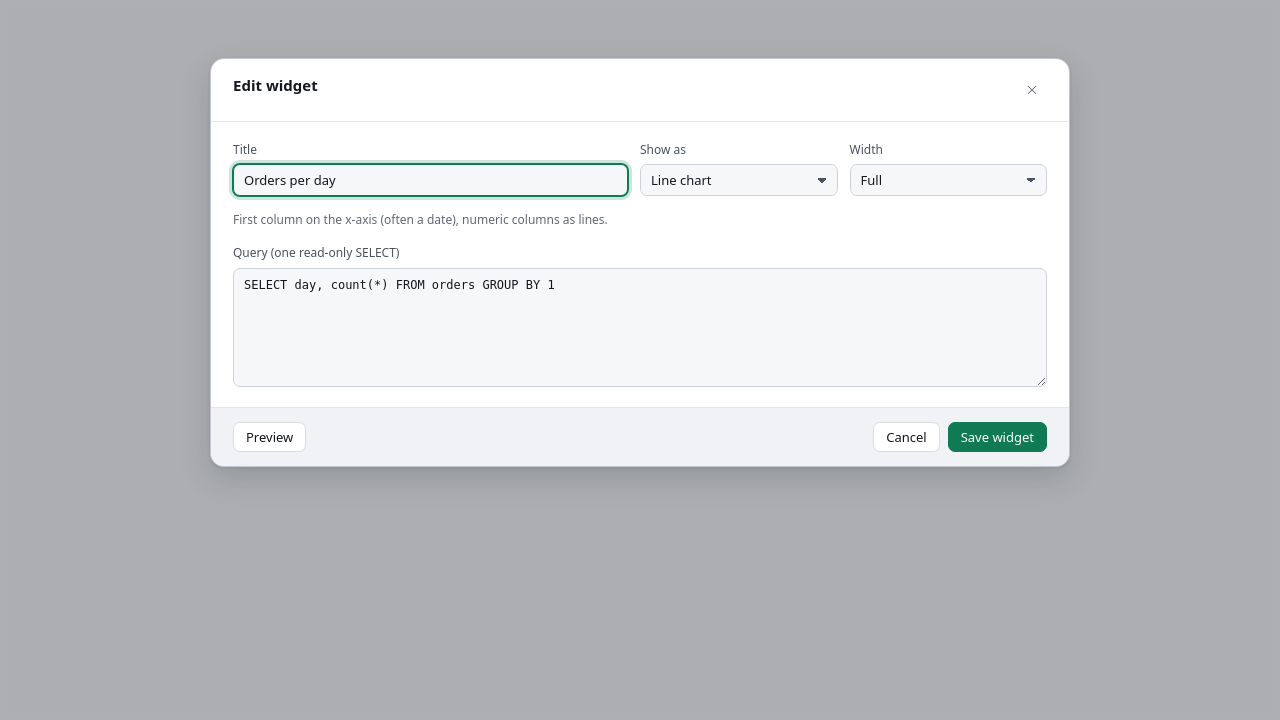
WidgetEditor › shows Running… while the preview runs and blocks a second run
Click the button "Preview" at (270, 437), box [233,422,306,452]
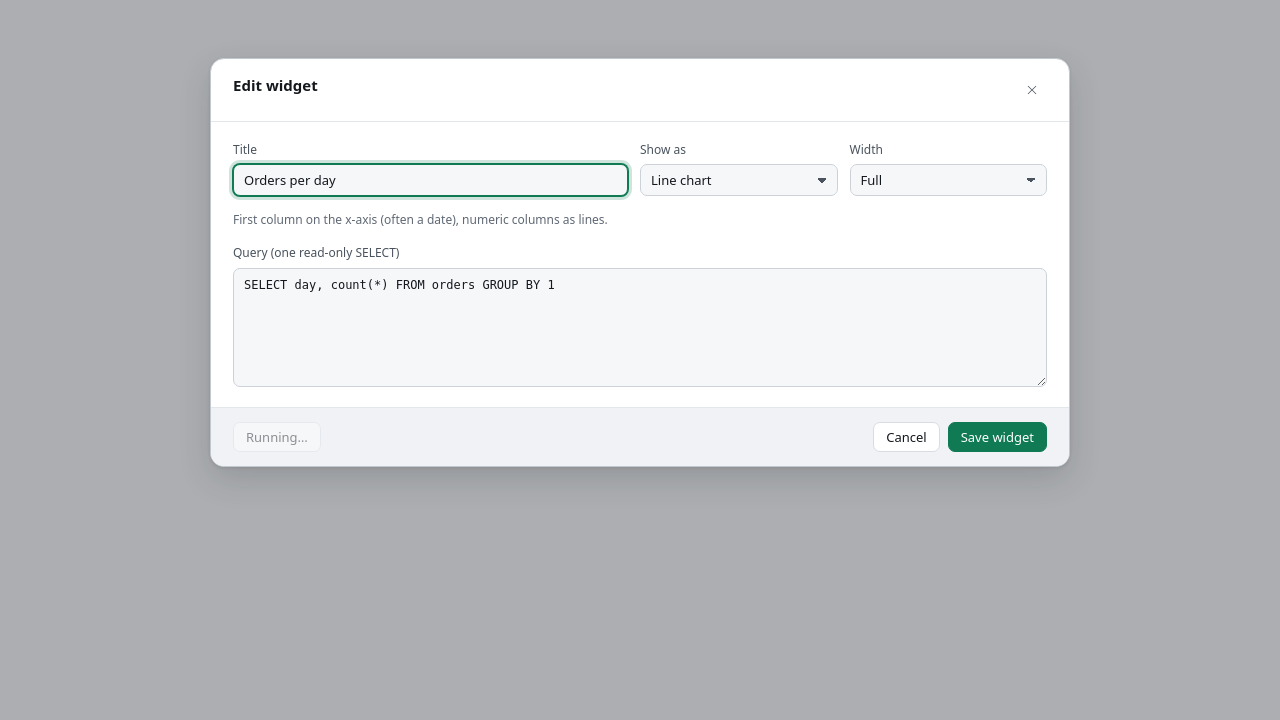
Now the button "Running…" is disabled
Click the button "Running…" at (277, 437), box [233,422,321,452]
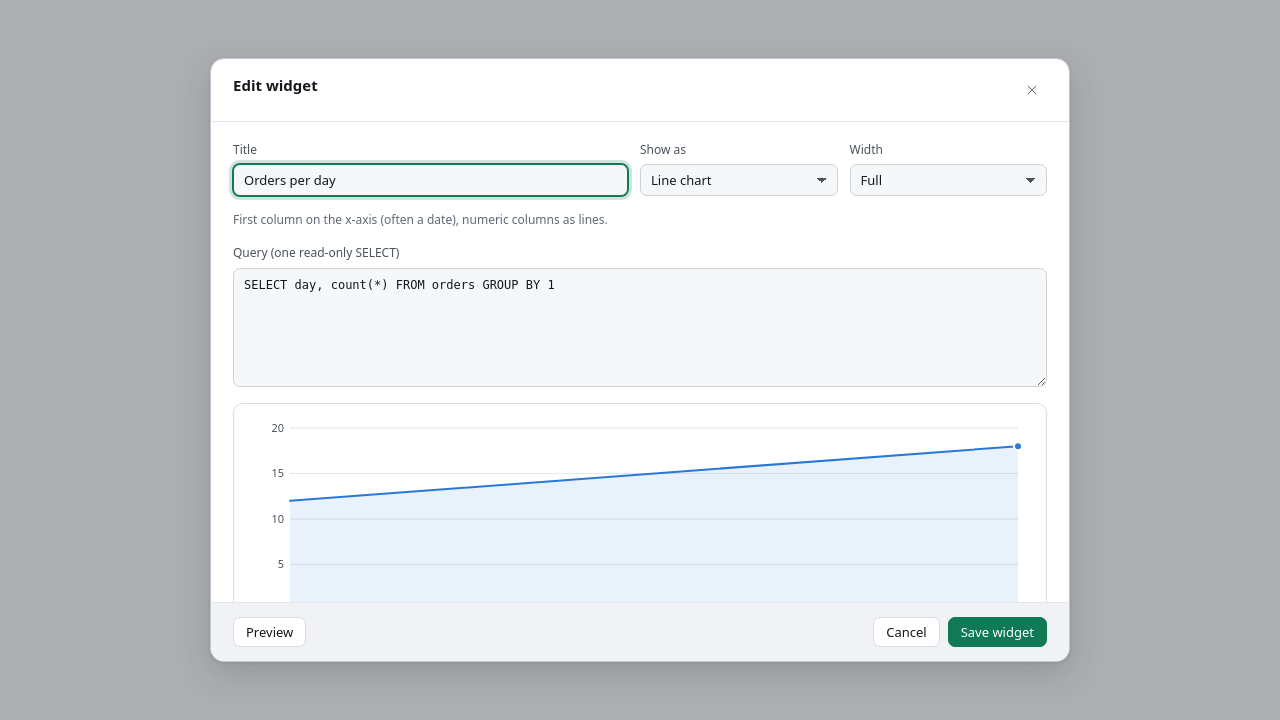
Now the button "Preview" is enabled, box [233,617,306,647]
Now the picture named "Line chart of orders" is shown, box [246,416,1034,602]
